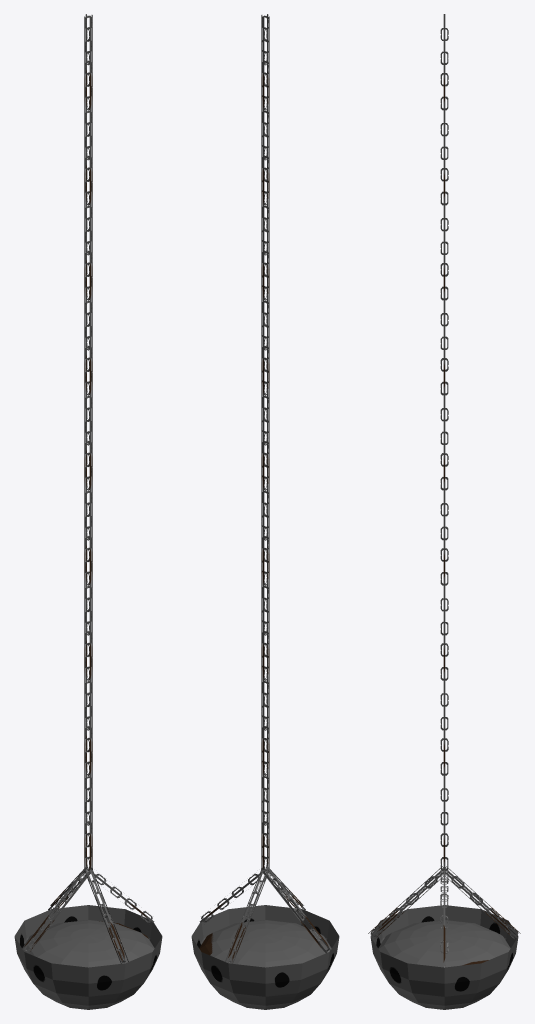
The model's file is BRASERO.fbx.
3 renders of one model, left to right at view 1: azimuth 30°, elevation 25°; view 2: azimuth 150°, elevation 25°; view 3: azimuth 270°, elevation 25°, orthographic.
Parts seen in each view (by area): view 1: BRASERO; view 2: BRASERO; view 3: BRASERO.
Part boxes in pixels (x1,y1,x2,y2): BRASERO: [14, 14, 162, 1009]; BRASERO: [191, 14, 339, 1009]; BRASERO: [368, 14, 520, 1009].
Bounding box in the file's own units: 0.6783 × 4.86 × 0.6783.
